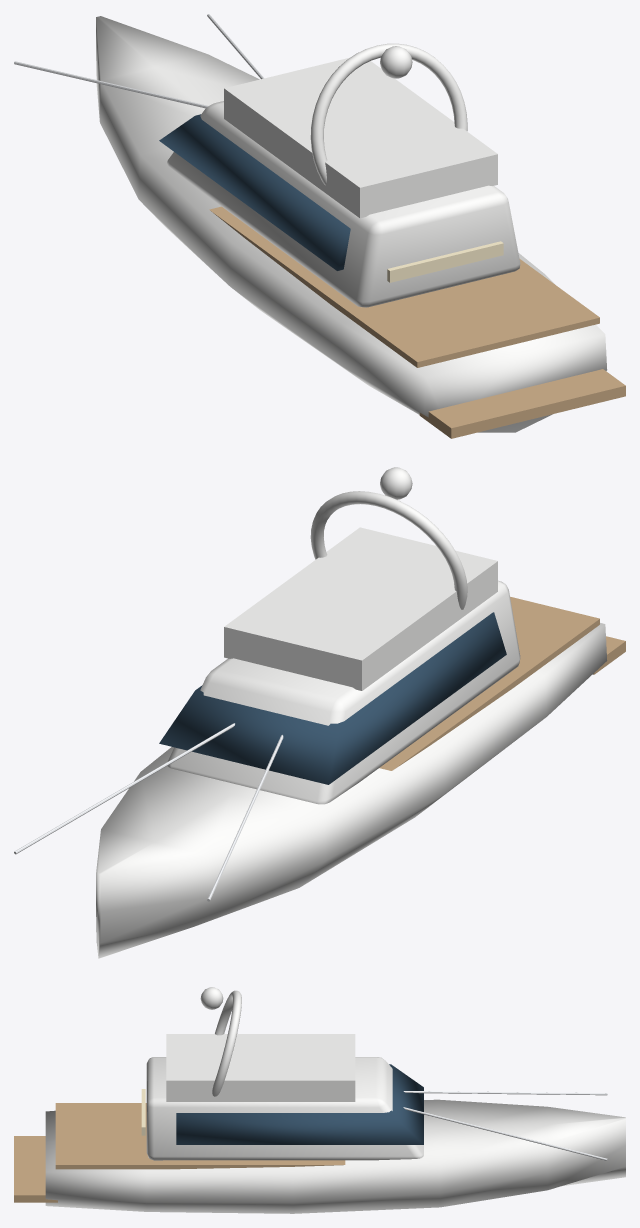
Rendered from Boat_SuperYacht_v2.fbx.
3 views of the same model, one above another, from view 1: azimuth 30°, elevation 25°; view 2: azimuth 150°, elevation 25°; view 3: azimuth 270°, elevation 25° (orthographic). The views are drawn at different scales.
Parts seen in each view (by area): view 1: YachtHull, Cube.004, Cube.002, Cube.001, Cube.003, Cube, Torus, Cube.005, Sphere, Cylinder; view 2: YachtHull, Cube.004, Cube.003, Cube.002, Cube.001, Torus, Cylinder.001, Sphere; view 3: YachtHull, Cube.004, Cube.002, Cube.003, Cube.001, Cube, Torus, Cylinder.001, Cylinder, Sphere.
Boxes of the visible parts, x1,y1,x2,y2 form: YachtHull: (96, 16, 607, 432); Cube.004: (224, 57, 497, 218); Cube.002: (167, 101, 520, 307); Cube.001: (209, 206, 599, 367); Cube.003: (159, 114, 350, 270); Cube: (419, 369, 625, 438); Torus: (310, 43, 467, 185); Cube.005: (387, 241, 503, 282); Sphere: (380, 46, 412, 78); Cylinder: (14, 61, 208, 108); YachtHull: (96, 623, 607, 958); Cube.004: (224, 527, 497, 690); Cube.003: (159, 612, 506, 784); Cube.002: (167, 580, 520, 804); Cube.001: (379, 596, 599, 770); Torus: (310, 491, 467, 609); Cylinder.001: (14, 723, 234, 854); Sphere: (380, 467, 412, 499); YachtHull: (45, 1099, 625, 1213); Cube.004: (166, 1034, 355, 1101); Cube.002: (146, 1057, 423, 1160); Cube.003: (176, 1064, 423, 1144); Cube.001: (55, 1103, 345, 1169); Cube: (14, 1136, 57, 1202); Torus: (212, 990, 241, 1096); Cylinder.001: (403, 1107, 607, 1160); Cylinder: (403, 1091, 607, 1095); Sphere: (200, 987, 223, 1009).
Bounding box in the file's own units: 5.3 × 7.13 × 18.77.
